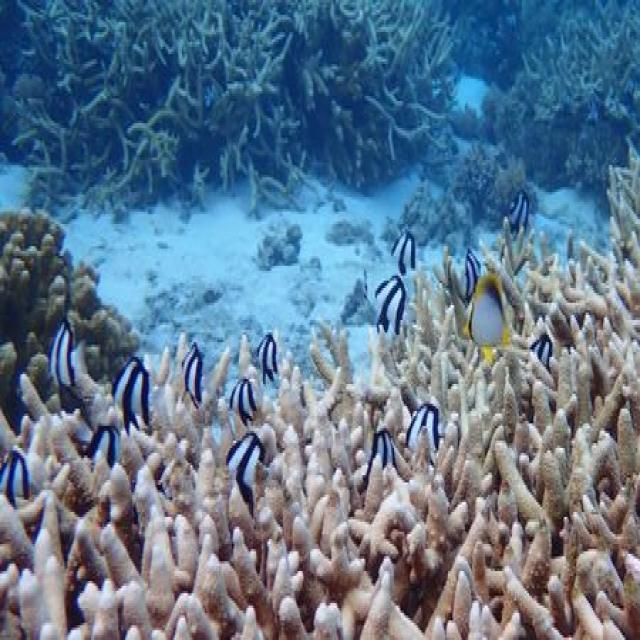Three_striped DasmselFish: (113, 358, 153, 422), (48, 321, 82, 390), (373, 273, 410, 331), (0, 441, 33, 506), (362, 427, 407, 474), (227, 430, 264, 487), (181, 340, 210, 407), (410, 401, 444, 453), (77, 426, 123, 464), (388, 227, 422, 274), (254, 326, 284, 376), (228, 374, 258, 419), (527, 329, 562, 367), (458, 243, 478, 298), (509, 183, 530, 234)
